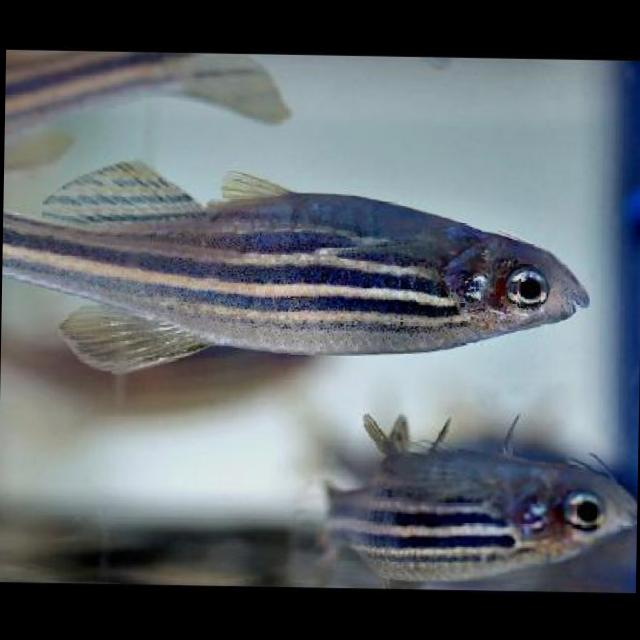ZebraFish: (1, 156, 590, 386)
